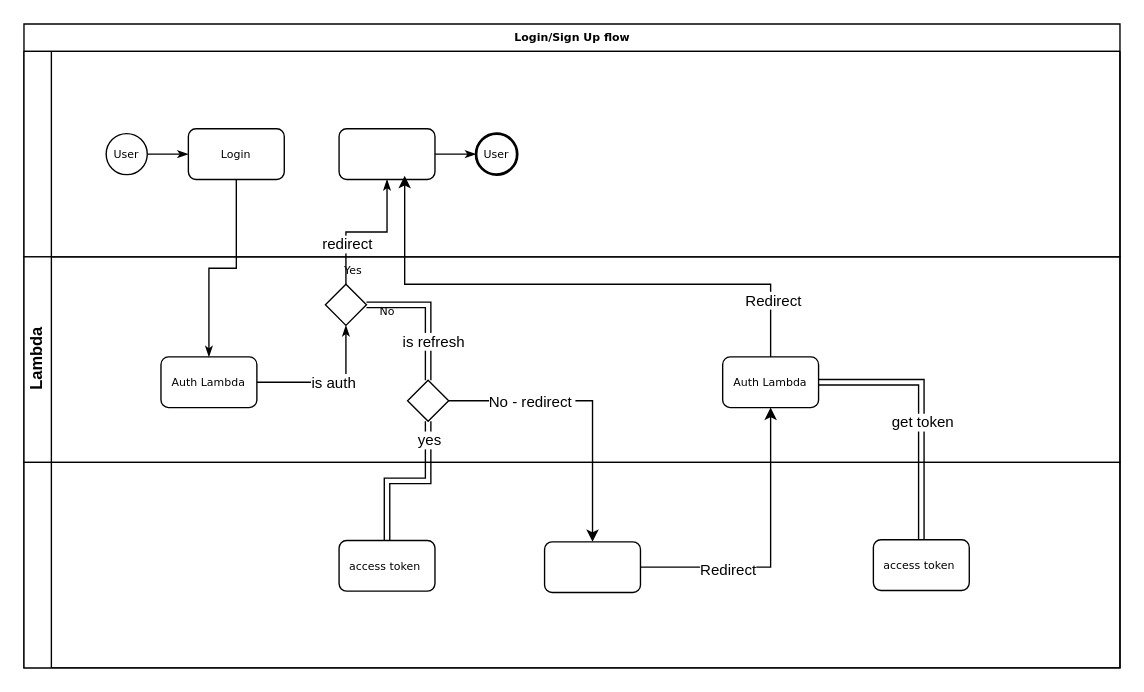
Some shapes in this 1144 by 692 pixel diagram are drawn without their labels. Here are the shapes that lost their labels. From the top down, the box of each, then its label:
(338, 127, 435, 179): Home
(23, 50, 1120, 257): React
(23, 461, 1120, 668): Google Auth
(543, 540, 640, 593): oauth2
